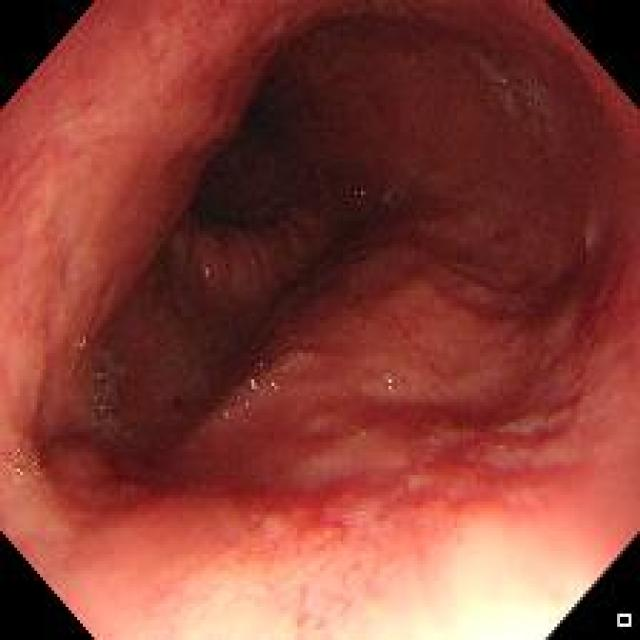bubbles: (88, 344, 125, 439), (379, 191, 406, 204)
color misalignment: (5, 429, 44, 484), (74, 336, 92, 352), (617, 614, 633, 627), (385, 375, 396, 393), (250, 378, 260, 393), (99, 402, 109, 414), (272, 380, 278, 391), (97, 372, 105, 380), (360, 429, 367, 438), (206, 267, 211, 278), (224, 411, 229, 420)
contrast: (185, 63, 416, 273)
saturation: (344, 554, 598, 640)
